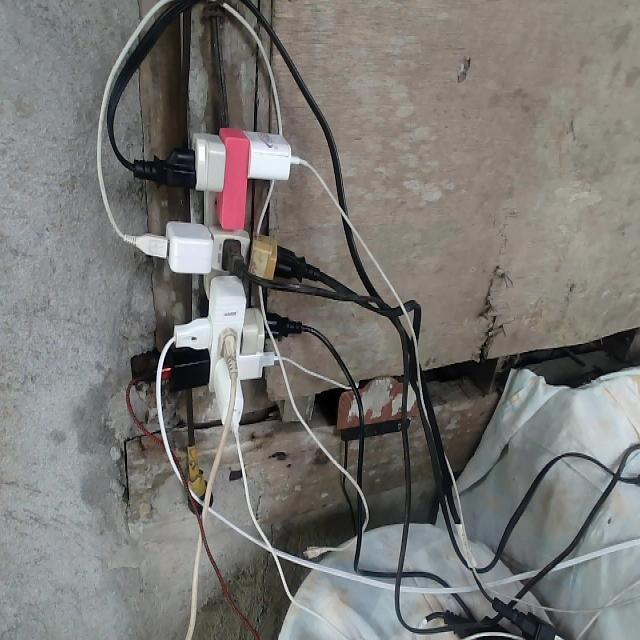-: (134, 119, 314, 429)
